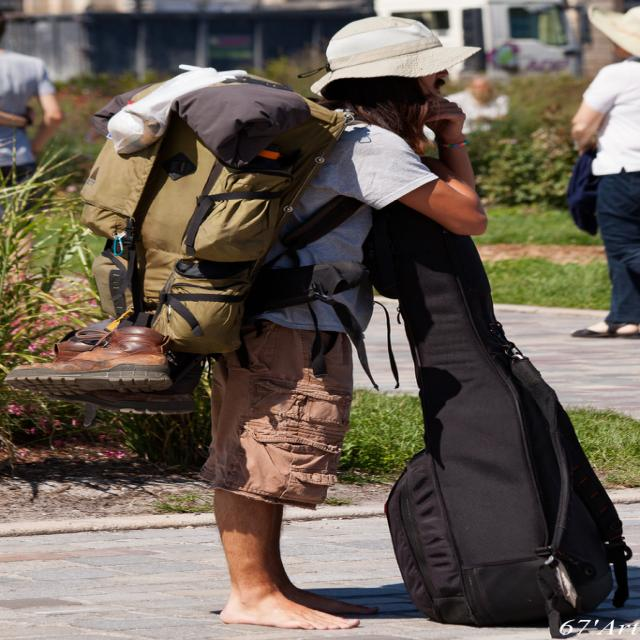backpack: (62, 62, 353, 351)
